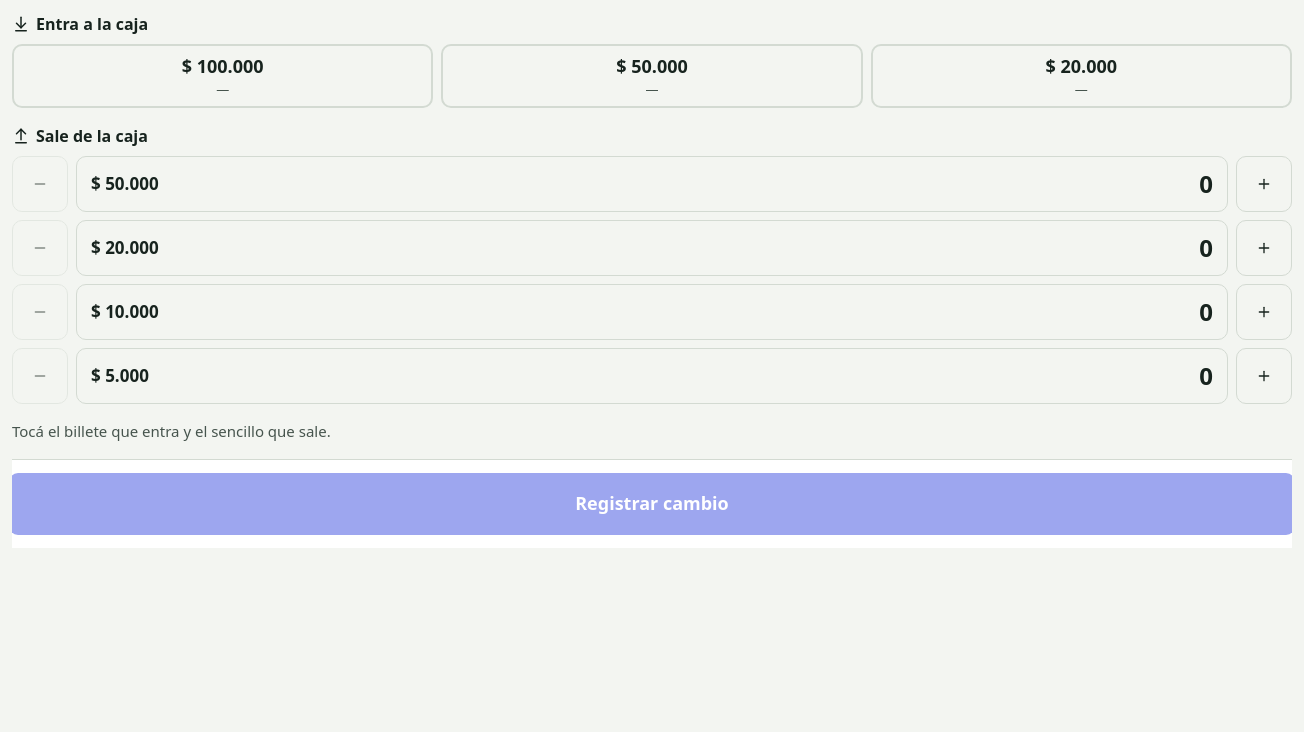
Test: CashSwapPanel — la hoja «Cambio» (handoff PosMesas) › si el servidor dice que no cuadra, lo dice y no deja registrar
Click the button named "entra un billete de $ 100.000" at (223, 76), box [12,44,433,108]
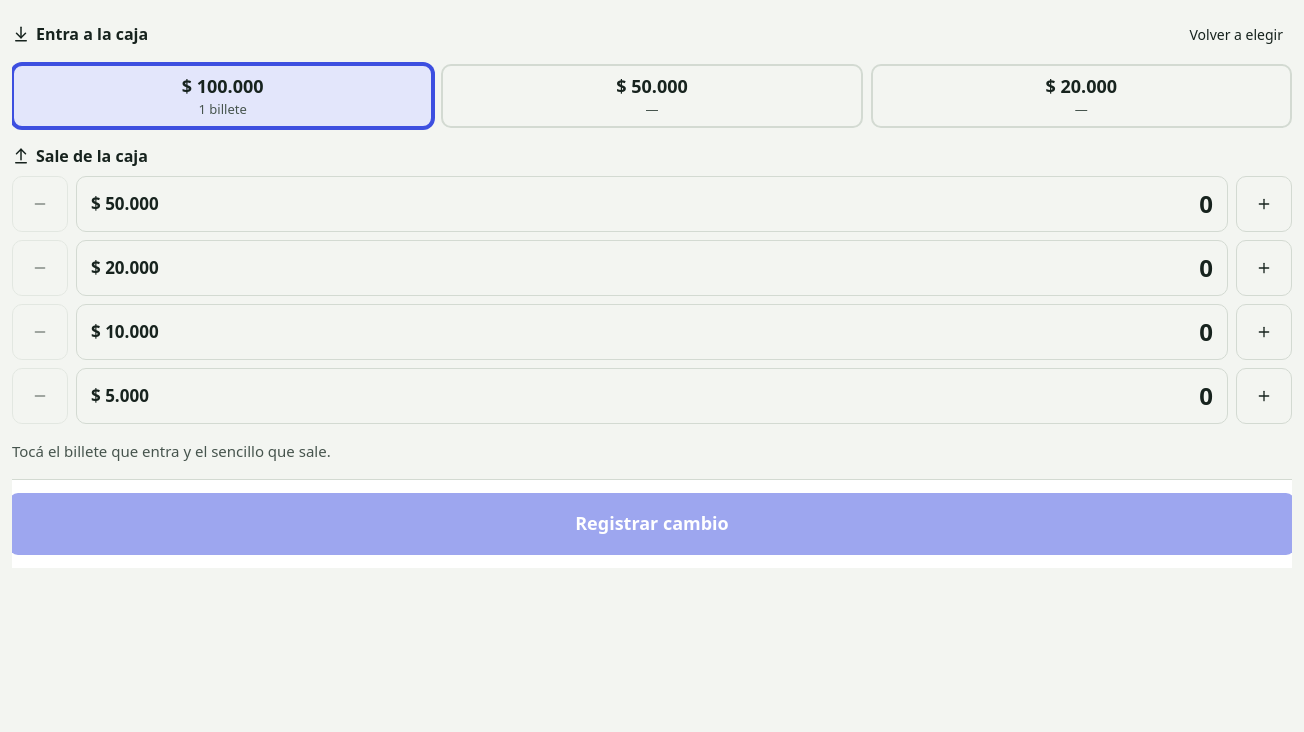
Click the button named "una más de $ 50.000" at (1264, 204), box [1236,176,1292,232]
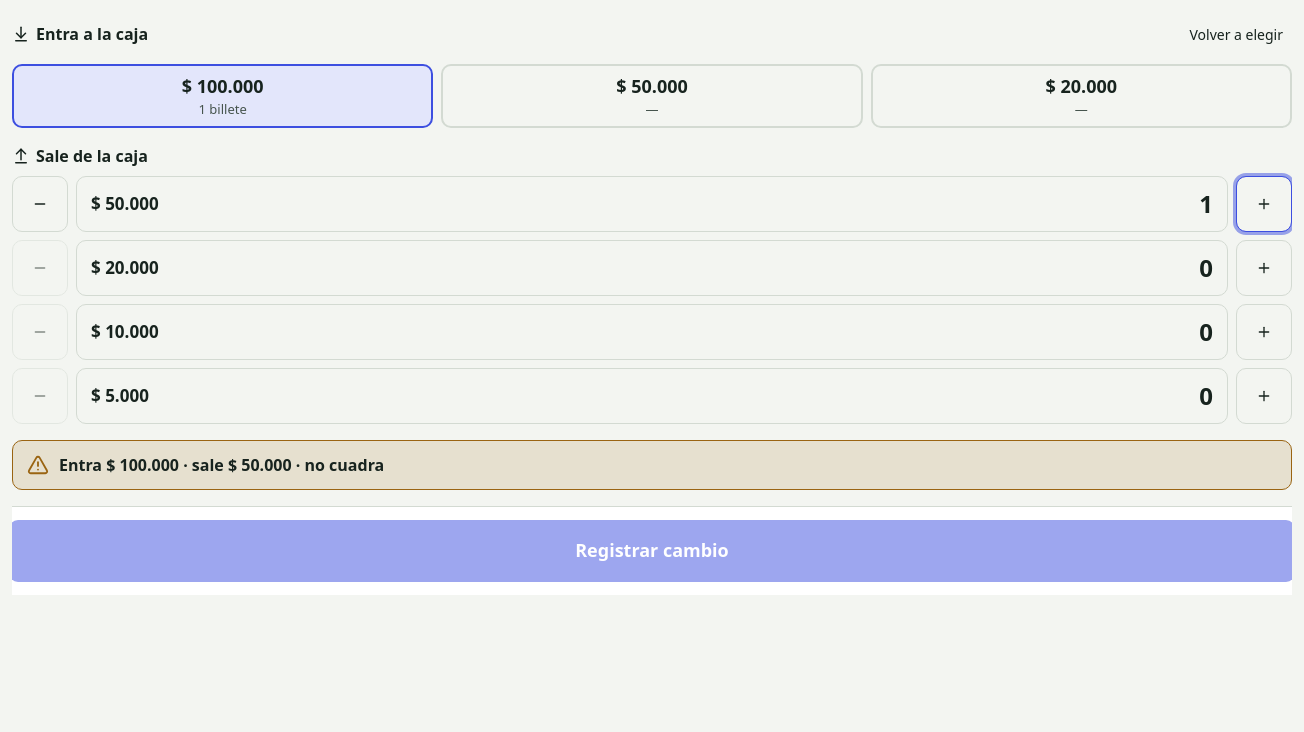
Now the text "Entra $ 100.000 · sale $ 50.000 · no cuadra" is shown, box [12,440,1292,490]
